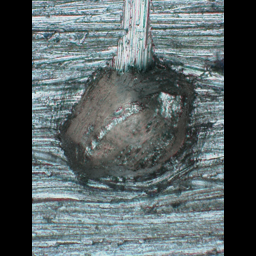d: (49, 41, 207, 198)
